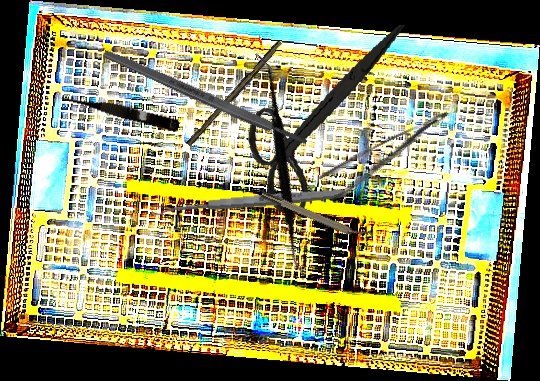Dressing Forceps: (316, 107, 462, 203)
Fixation Ring: (259, 184, 375, 248)
Iris Scissors: (238, 5, 406, 226)
Micro Scissor: (58, 88, 181, 133)
Scalpel Handle: (101, 46, 310, 149), (185, 38, 285, 150)
Spatula Surgical: (171, 52, 389, 278)
Surgical Spoon: (150, 186, 347, 217)
